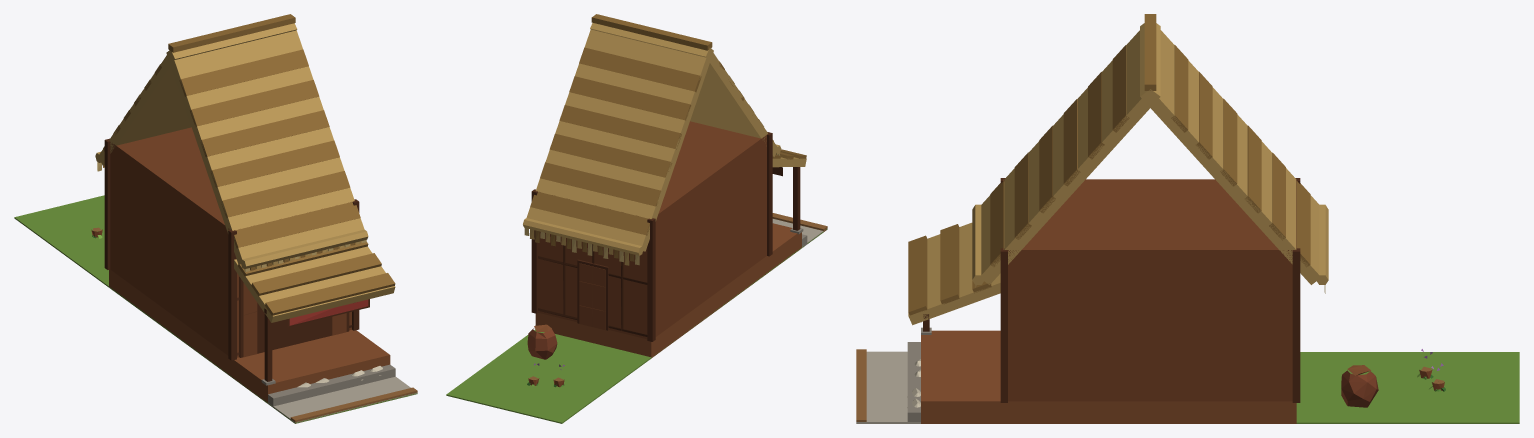
Rendered from bay2_mid.glb.
3 views of the same model, side by side, from view 1: azimuth 30°, elevation 25°; view 2: azimuth 150°, elevation 25°; view 3: azimuth 270°, elevation 25° (orthographic). The views are drawn at different scales.
Parts seen in each view (by area): view 1: body; view 2: body; view 3: body.
Boxes of the visible parts, x1,y1,x2,y2 form: body: [14, 14, 417, 423]; body: [446, 14, 827, 423]; body: [856, 14, 1519, 423].
Size of the model in its own units: 4.18 by 9.19 by 15.9.
